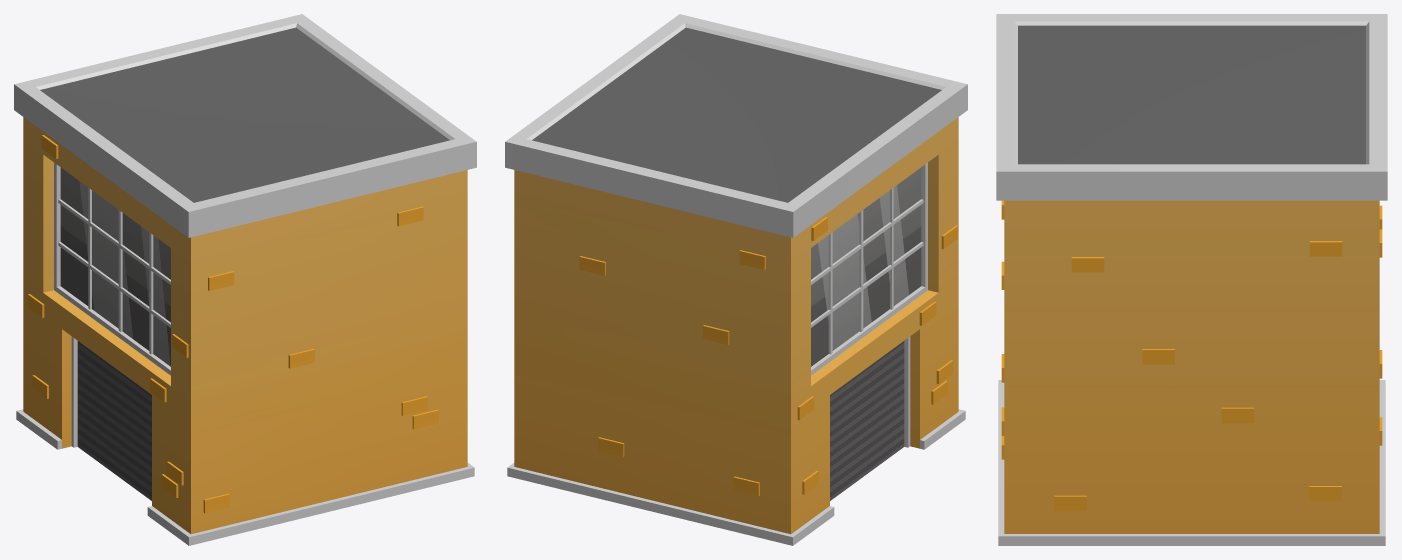
Rendered from Building_10_O.fbx.
3 views of the same model, side by side, from view 1: azimuth 30°, elevation 25°; view 2: azimuth 150°, elevation 25°; view 3: azimuth 270°, elevation 25° (orthographic). The views are drawn at different scales.
Visible parts, largest first — view 1: Building_10_O; view 2: Building_10_O; view 3: Building_10_O.
Boxes of the visible parts, <box> form: Building_10_O: <box>14,14,476,545</box>; Building_10_O: <box>505,14,967,545</box>; Building_10_O: <box>996,14,1387,545</box>.
Size of the model in its own units: 701 by 779 by 736.
